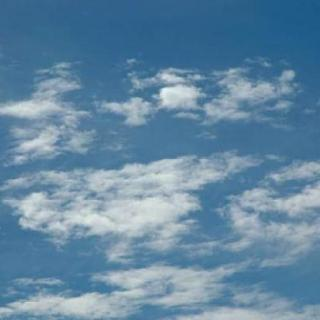Cirrocumulus: (0, 42, 320, 320)
